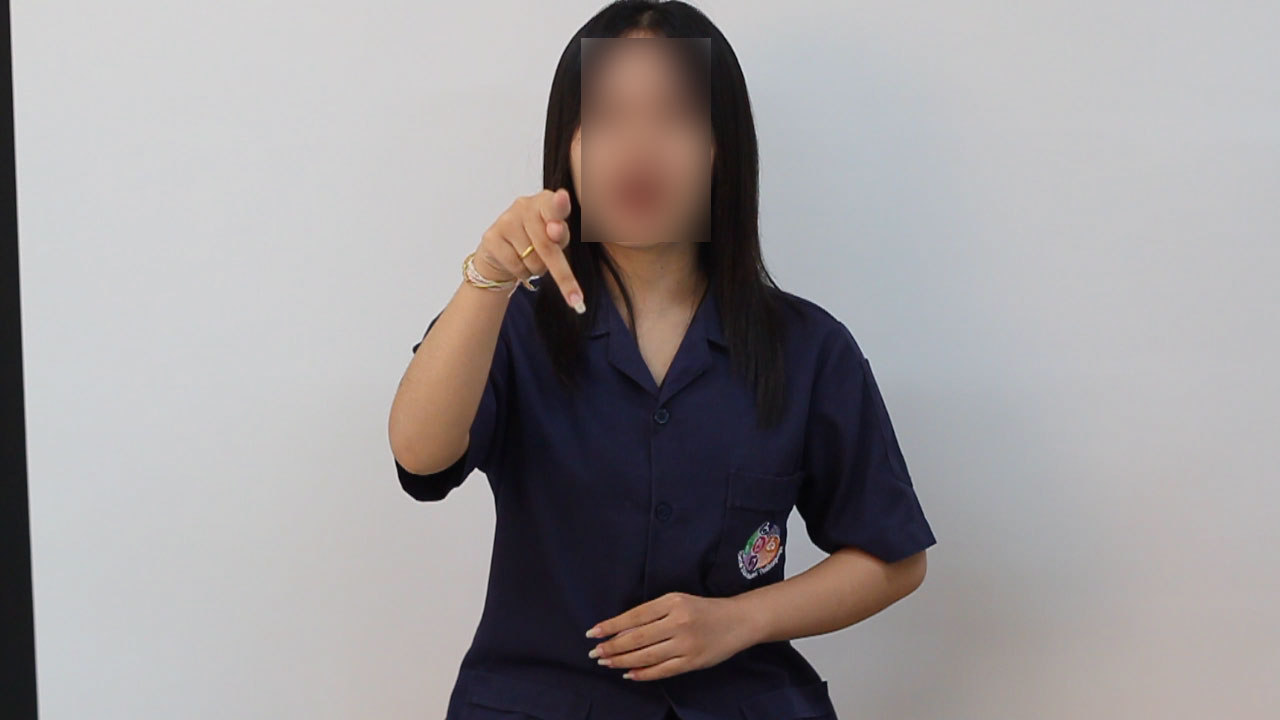por: (461, 170, 599, 337)
